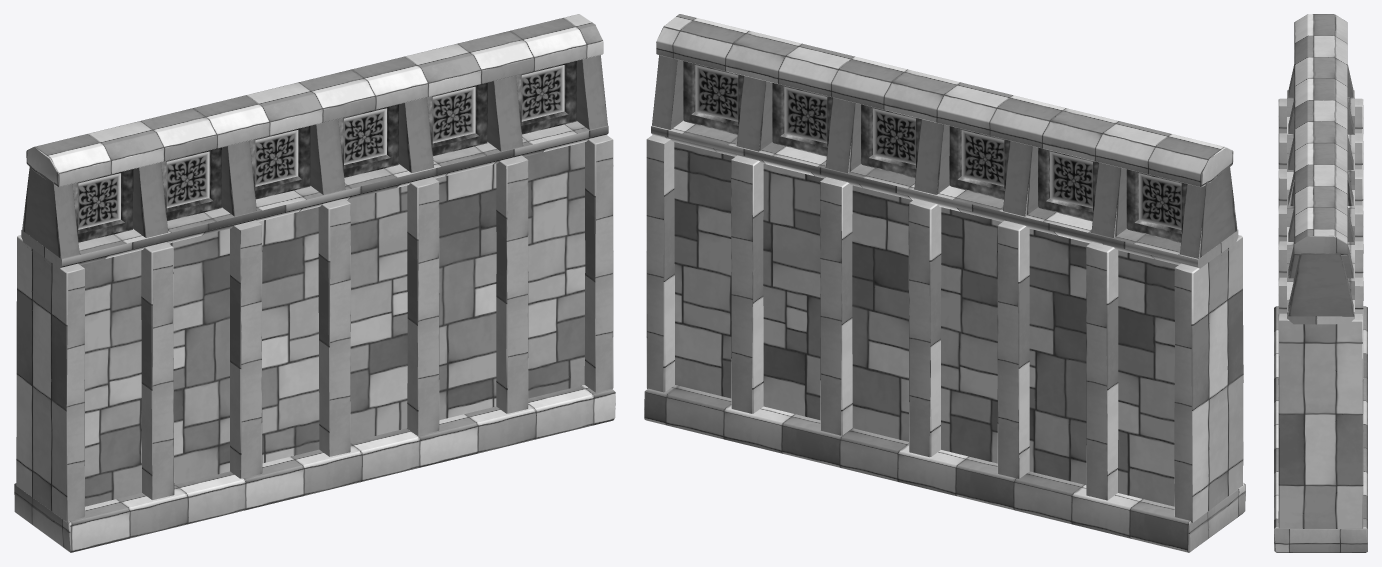
File: SM_internal_wall_01.fbx
3 renders of one model, left to right at view 1: azimuth 30°, elevation 25°; view 2: azimuth 150°, elevation 25°; view 3: azimuth 270°, elevation 25°, orthographic. The views are drawn at different scales.
Visible parts, largest first — view 1: SM_internal_wall_01_LOD0; view 2: SM_internal_wall_01_LOD0; view 3: SM_internal_wall_01_LOD0.
Part boxes in pixels (box(x1,y1,x2,y2)): SM_internal_wall_01_LOD0: box(14, 14, 615, 552); SM_internal_wall_01_LOD0: box(644, 14, 1245, 552); SM_internal_wall_01_LOD0: box(1274, 14, 1367, 552).
Size of the model in its own units: 901 by 161 by 599.
